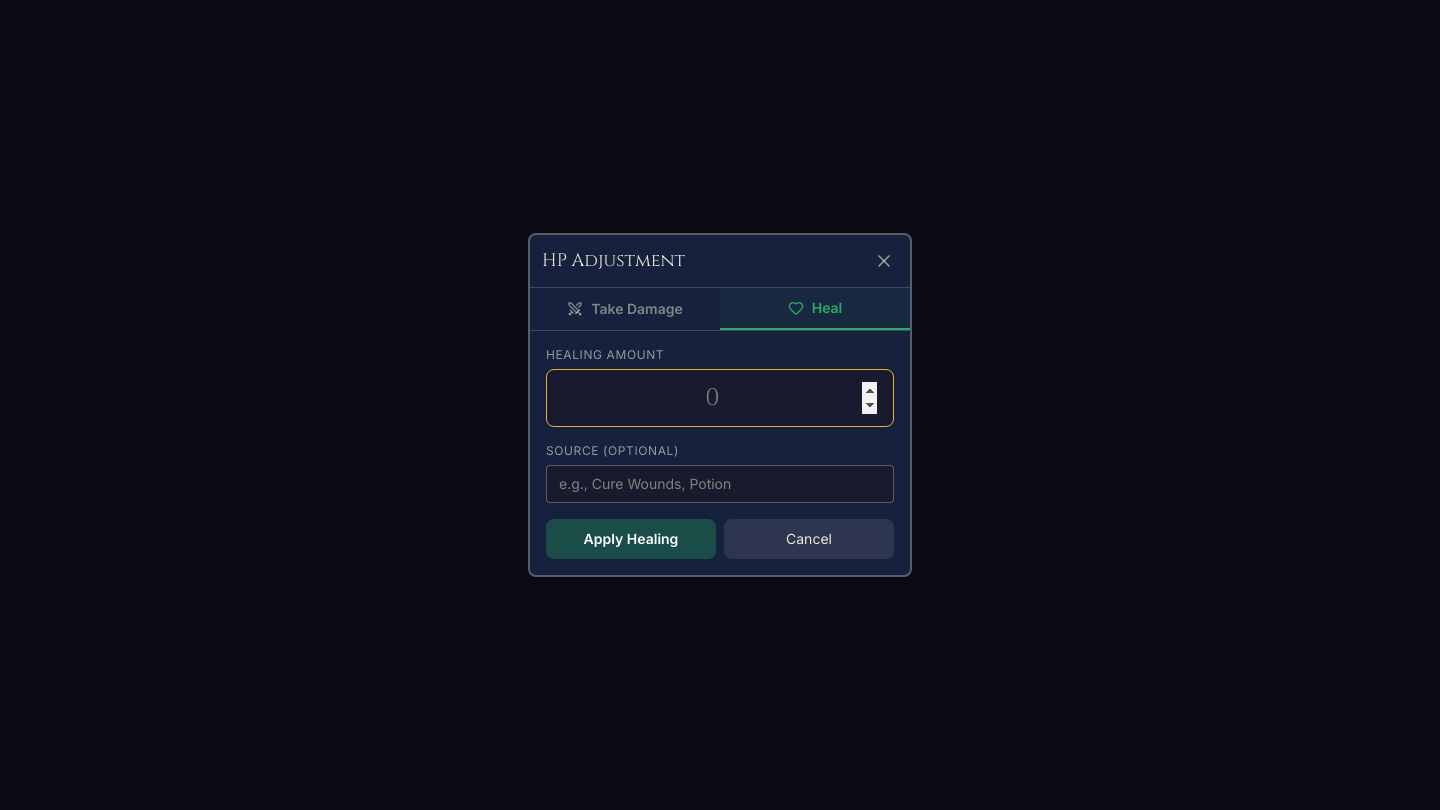
Scenario: DamageHealModal › shows healing preview when amount is entered on heal tab
Type "10" into the number field with test id "hp-amount-input" at x=720, y=398, box [546,369,894,427]
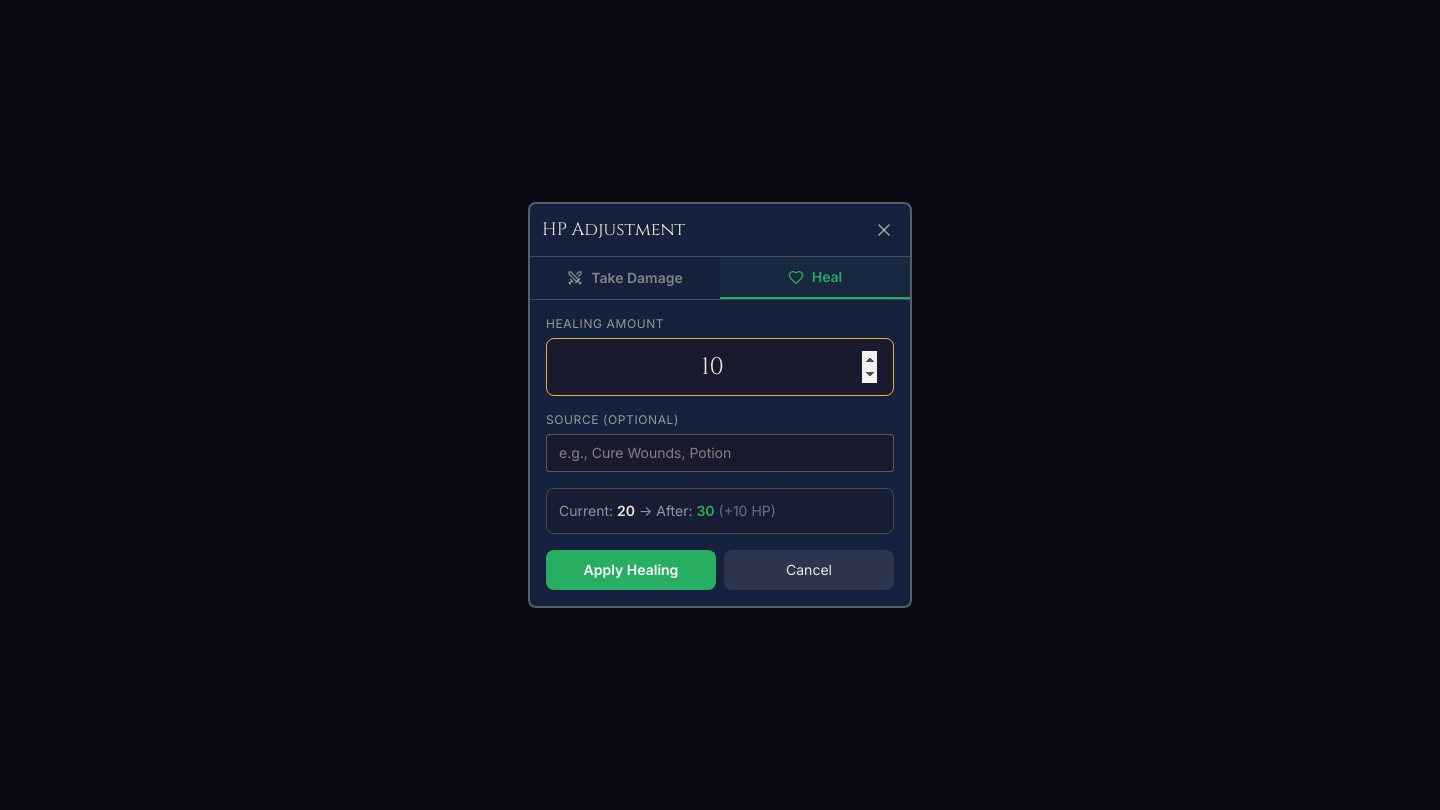
Check: the element with test id "healing-preview" is shown, box [546,488,894,534]
